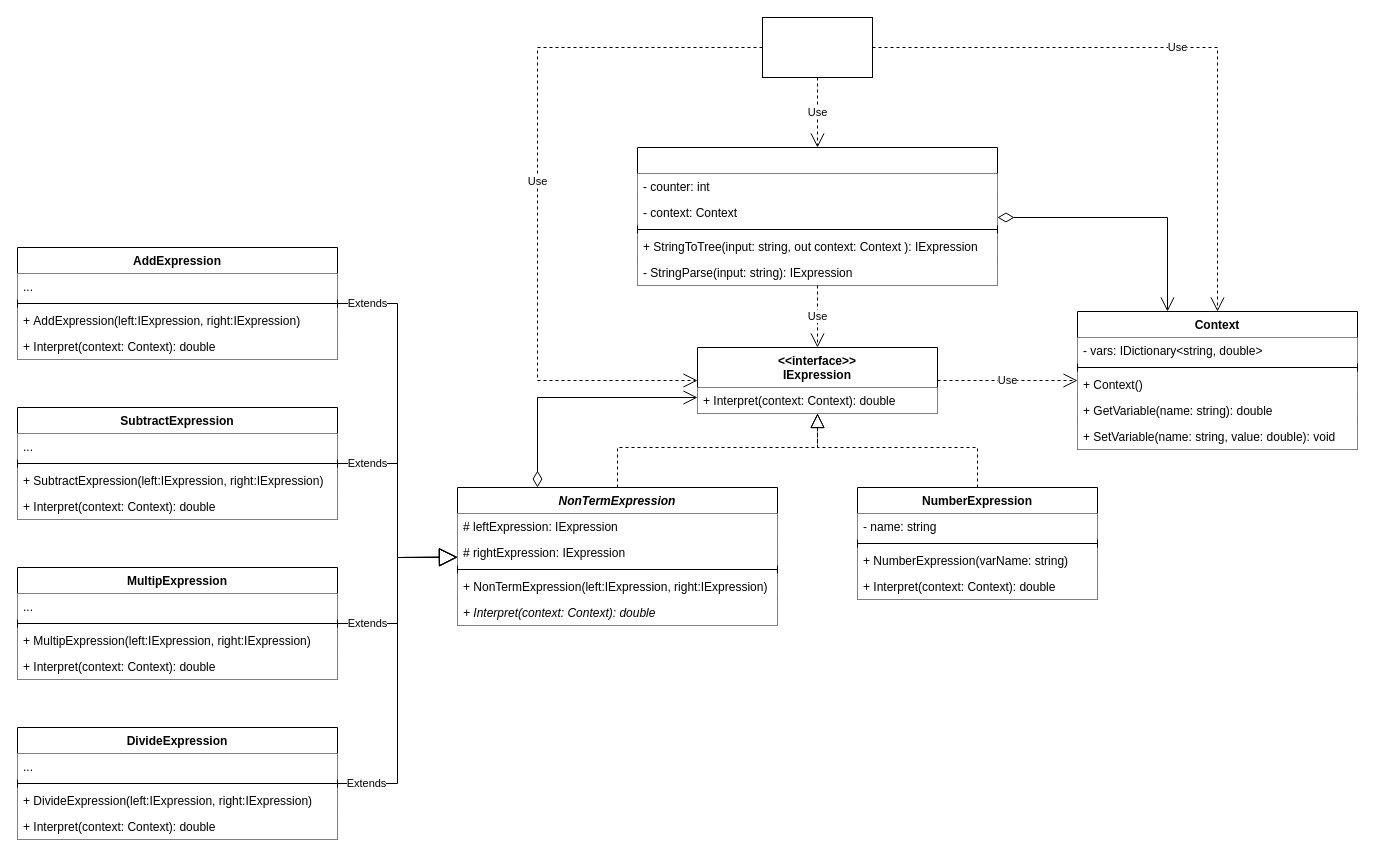
Some shapes in this 1375 by 860 pixel diagram are drawn without their labels. Each missing label, with the box of its shape:
Parser: (636, 146, 998, 286)
Program: (762, 16, 872, 78)
